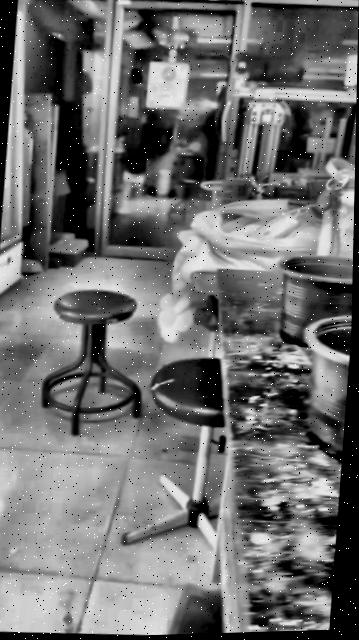pot: (305, 314, 351, 460), (278, 254, 353, 343)
